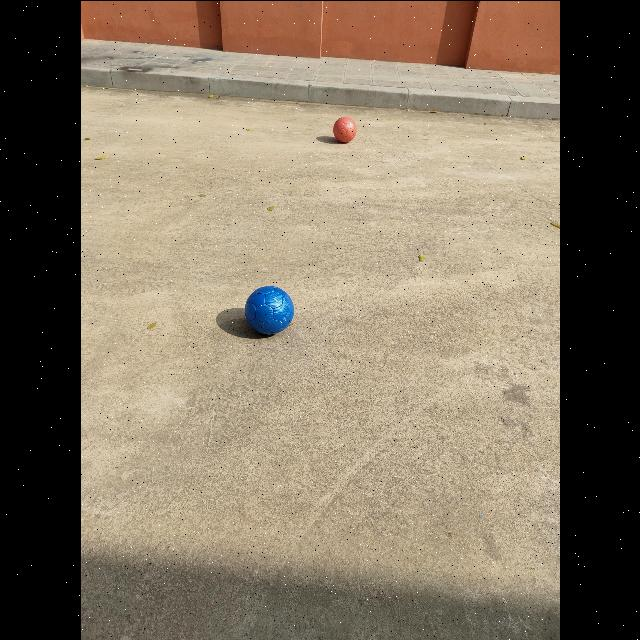B: (245, 285, 293, 334)
R: (333, 116, 357, 142)
